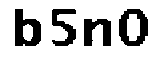0: (115, 5, 151, 52)
5: (50, 5, 80, 48)
b: (12, 6, 45, 54)
n: (84, 17, 114, 51)
